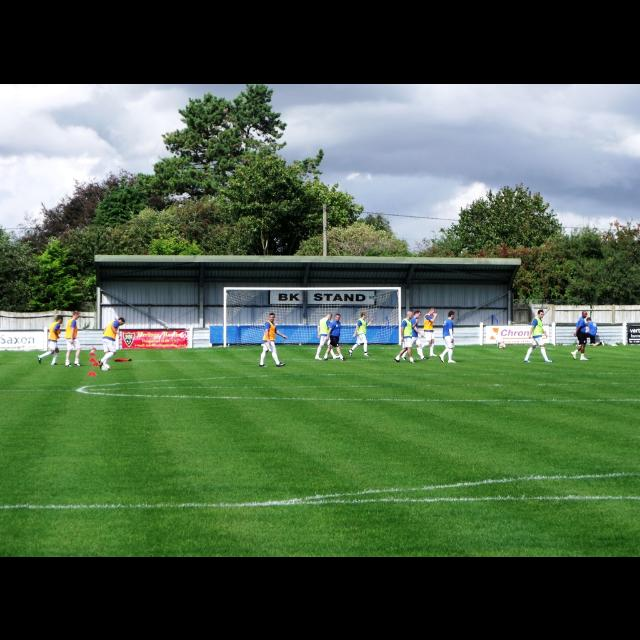Football: (498, 342, 504, 348)
